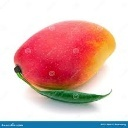mango: (13, 19, 117, 91)
